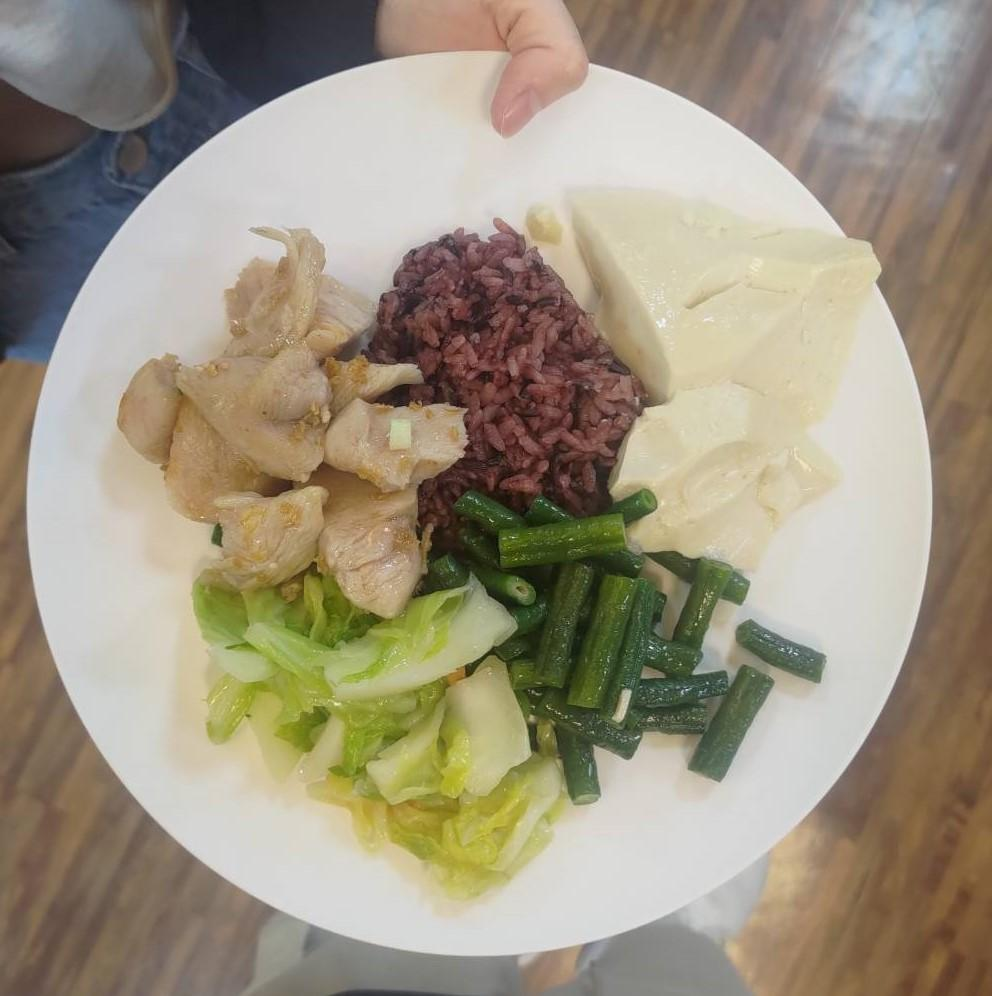big fried chicken leg: (22, 26, 951, 956)
braised fish: (364, 230, 659, 527)
braised fish fillet: (558, 178, 886, 572), (188, 551, 540, 883), (451, 497, 838, 796)
braised pork: (112, 244, 452, 615)
